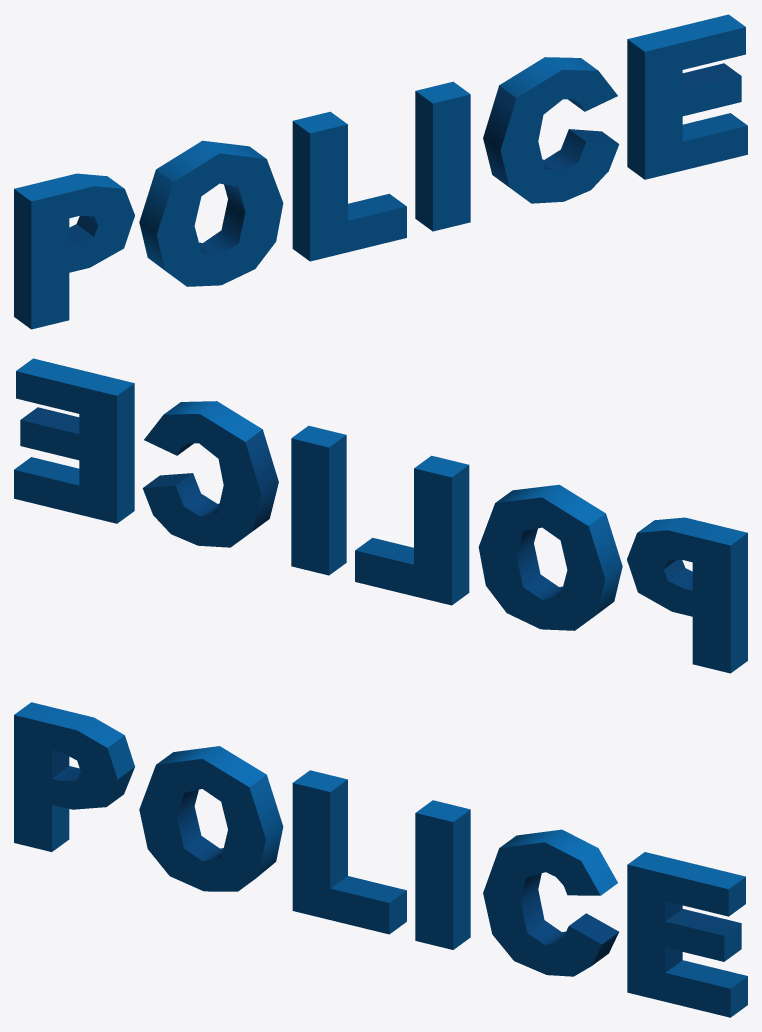
Rendered from Sign_A01.fbx.
The picture shows the model from 3 angles, top to bottom: view 1: azimuth 30°, elevation 25°; view 2: azimuth 150°, elevation 25°; view 3: azimuth 330°, elevation 25°; orthographic projection.
Parts seen in each view (by area): view 1: Sign_A01; view 2: Sign_A01; view 3: Sign_A01.
Part boxes in pixels (box(x1,y1,x2,y2)): Sign_A01: box(14, 14, 747, 329); Sign_A01: box(14, 358, 747, 673); Sign_A01: box(14, 702, 747, 1017).
Bounding box in the file's own units: 414 × 73.16 × 17.42.
1 material, 1 textured.
